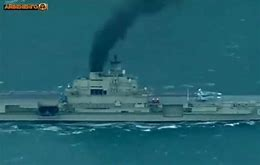smoke: (88, 1, 163, 70)
